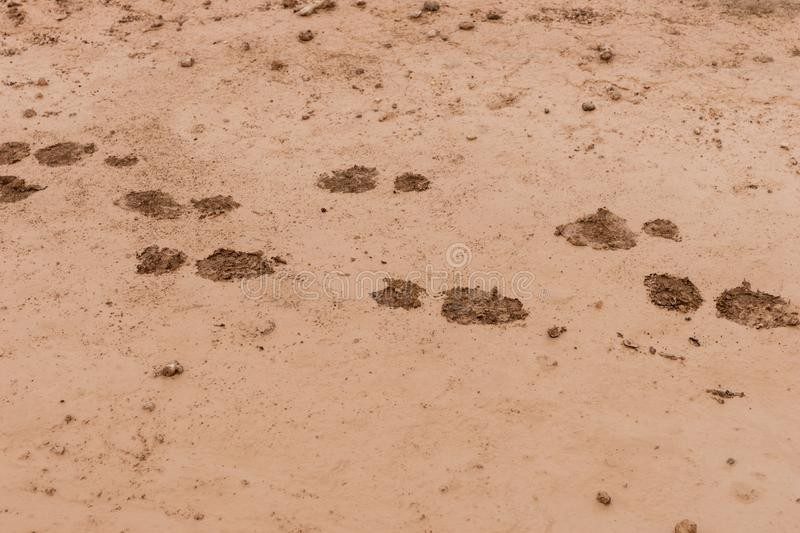human_footprint: (634, 267, 800, 346), (369, 271, 533, 334), (120, 241, 298, 290), (560, 192, 689, 254), (111, 184, 251, 225), (313, 169, 438, 202)
